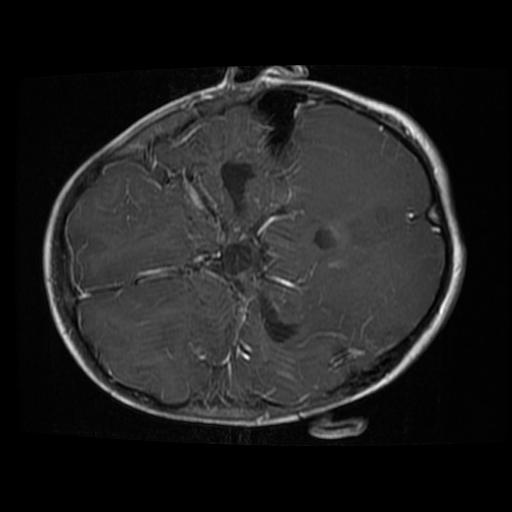glioma: (219, 159, 252, 212)
